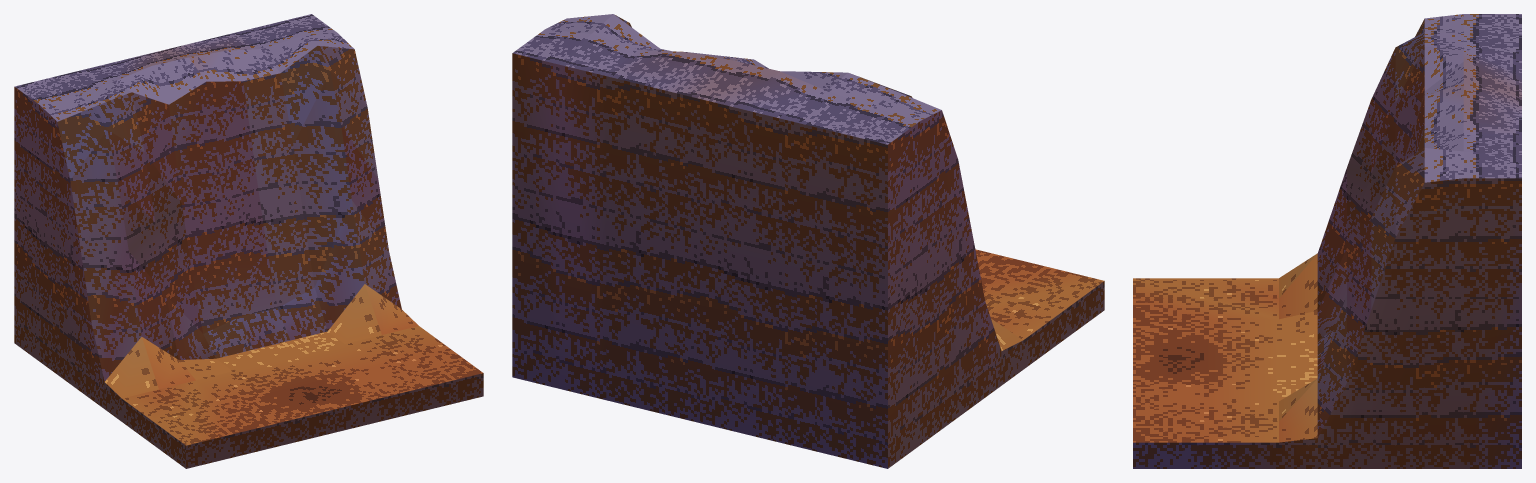
File: planet.ridge.glb
3 renders of one model, left to right at view 1: azimuth 30°, elevation 25°; view 2: azimuth 150°, elevation 25°; view 3: azimuth 270°, elevation 25°, orthographic. The views are drawn at different scales.
Visible parts, largest first — view 1: kit_ground; view 2: kit_ground; view 3: kit_ground.
Boxes of the visible parts, x1,y1,x2,y2 form: kit_ground: (14,14,483,468); kit_ground: (512,14,1104,468); kit_ground: (1133,14,1521,468).
Bounding box in the file's own units: 8 × 6.92 × 8.
3 materials, 3 textured.
